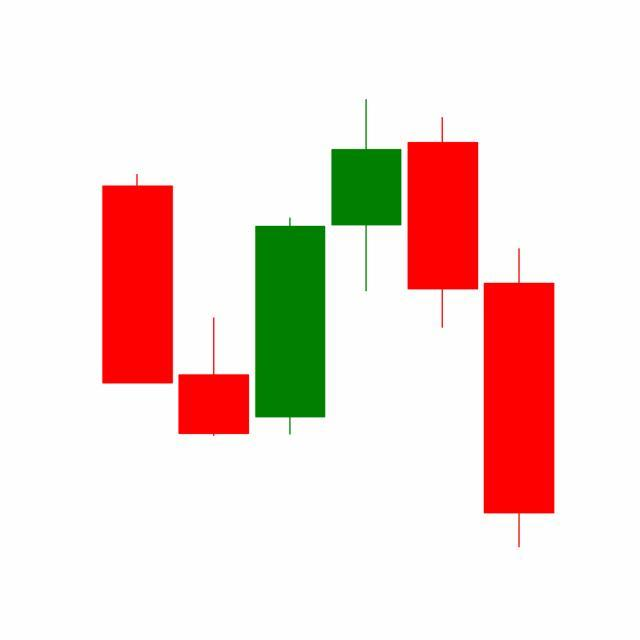Evening Star: (252, 100, 482, 440)
